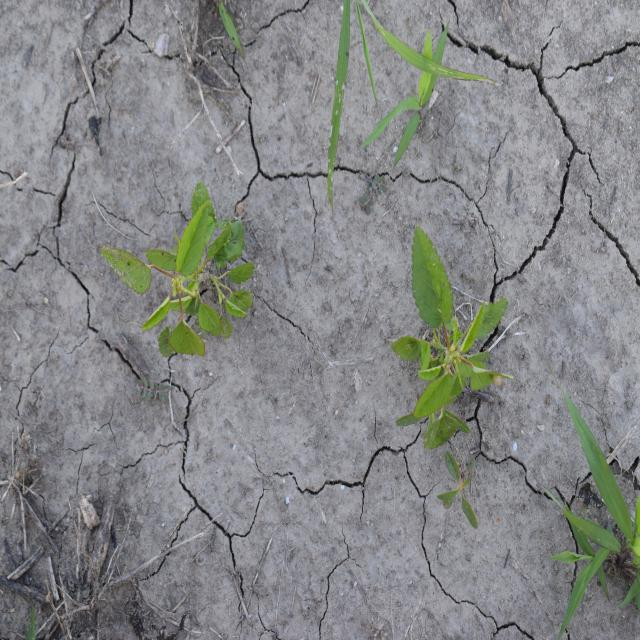PricklySida: (389, 223, 516, 452), (99, 180, 257, 359)
SpottedSpurge: (358, 172, 388, 216), (134, 374, 172, 406)
Waterhemp: (435, 449, 479, 531)
